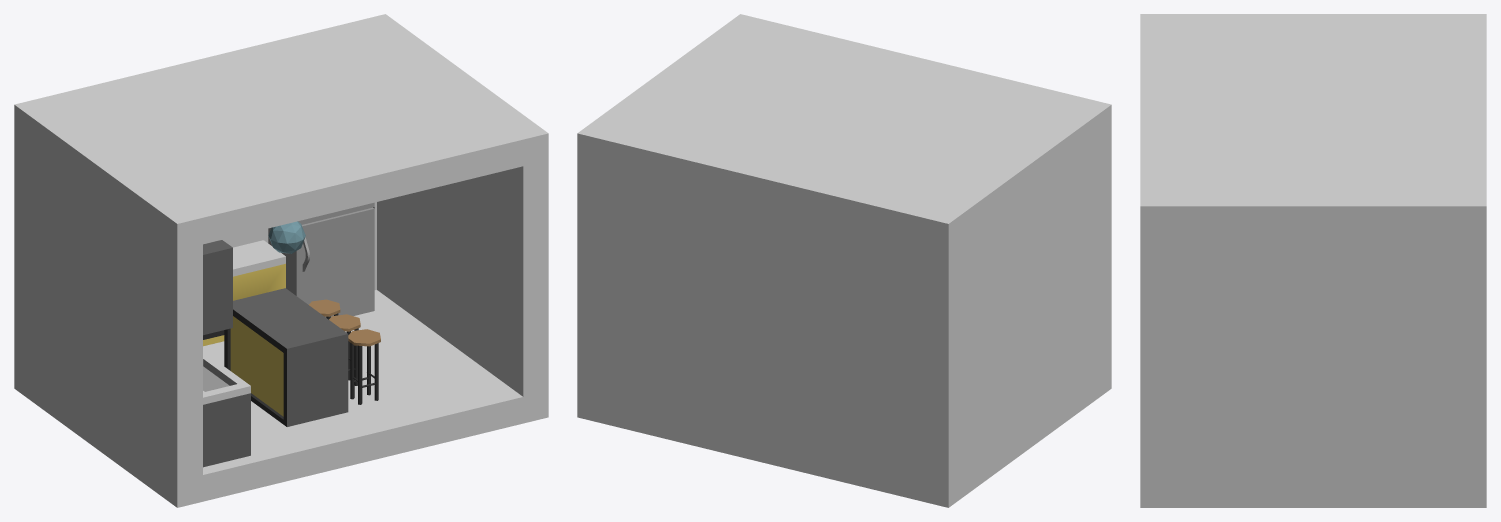
Rendered from Kitchen_1278.gltf.
The picture shows the model from 3 angles, left to right: view 1: azimuth 30°, elevation 25°; view 2: azimuth 150°, elevation 25°; view 3: azimuth 270°, elevation 25°; orthographic projection. The views are drawn at different scales.
Parts seen in each view (by area): view 1: node-0; view 2: node-0; view 3: node-0.
Boxes of the visible parts, x1,y1,x2,y2 form: node-0: [14, 14, 548, 507]; node-0: [577, 14, 1111, 507]; node-0: [1140, 14, 1486, 507].
Size of the model in its own units: 62.93 by 45.99 by 47.88.
